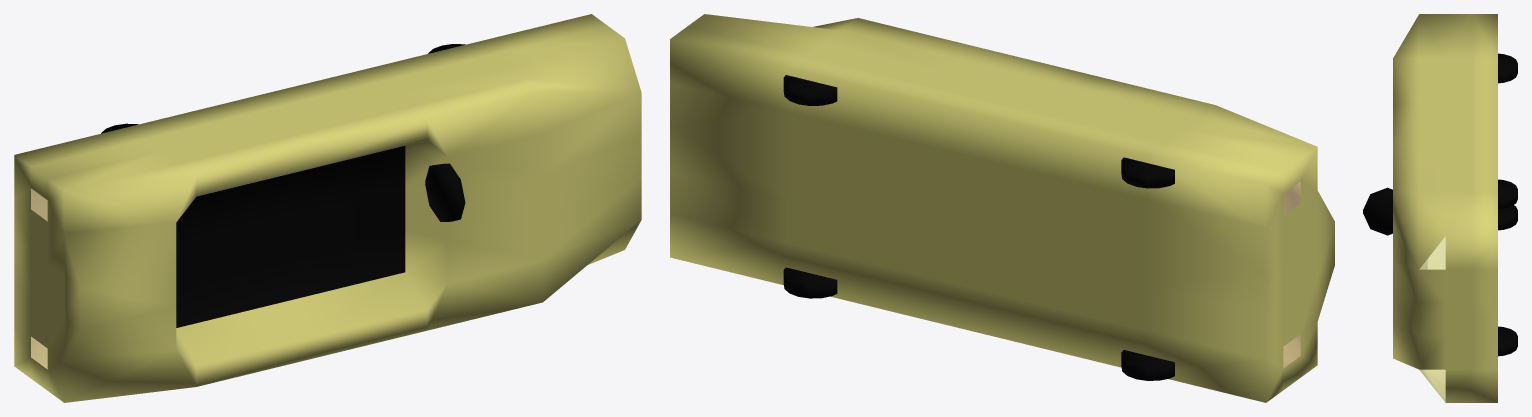
File: asset0.glb
3 renders of one model, left to right at view 1: azimuth 30°, elevation 25°; view 2: azimuth 150°, elevation 25°; view 3: azimuth 270°, elevation 25°, orthographic. The views are drawn at different scales.
Visible parts, largest first — view 1: Cube1, Cylinder6; view 2: Cube1, Cylinder2_copy5, Cylinder2_copy3, Cylinder2, Cylinder2_copy4; view 3: Cube1, Cylinder6, Cylinder2, Cylinder2_copy5, Cylinder2_copy3, Cylinder2_copy4.
Boxes of the visible parts, x1=… form: Cube1: x1=14, y1=14, x2=641, y2=402; Cylinder6: x1=425, y1=163, x2=465, y2=221; Cube1: x1=670, y1=14, x2=1334, y2=402; Cylinder2_copy5: x1=783, y1=267, x2=837, y2=298; Cylinder2_copy3: x1=783, y1=75, x2=837, y2=105; Cylinder2: x1=1121, y1=157, x2=1174, y2=188; Cylinder2_copy4: x1=1121, y1=350, x2=1174, y2=380; Cube1: x1=1393, y1=14, x2=1497, y2=402; Cylinder6: x1=1363, y1=187, x2=1392, y2=235; Cylinder2: x1=1498, y1=53, x2=1517, y2=83; Cylinder2_copy5: x1=1498, y1=326, x2=1517, y2=356; Cylinder2_copy3: x1=1498, y1=179, x2=1517, y2=209; Cylinder2_copy4: x1=1498, y1=205, x2=1517, y2=230.
Size of the model in its own units: 1 by 0.35 by 0.2942.
